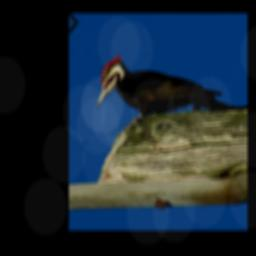Woodpecker: (93, 45, 238, 131)
